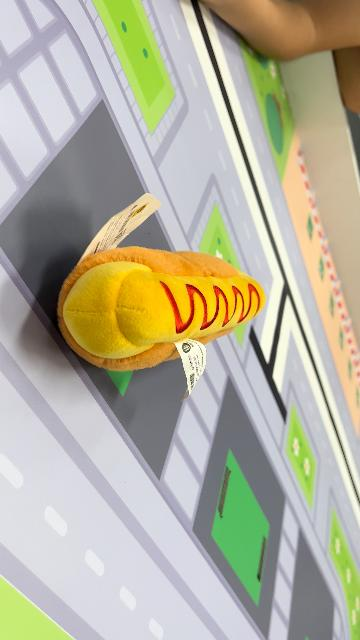hotdog: (57, 246, 266, 370)
